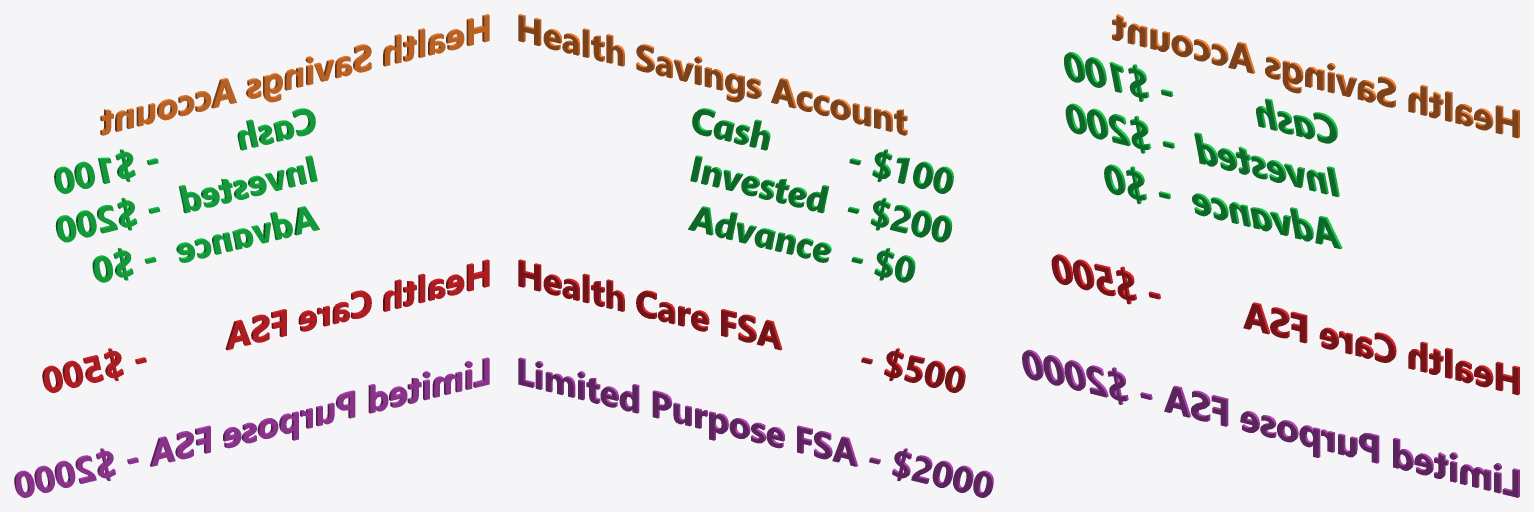
File: five.fbx
The picture shows the model from 3 angles, left to right: view 1: azimuth 30°, elevation 25°; view 2: azimuth 150°, elevation 25°; view 3: azimuth 330°, elevation 25°; orthographic projection. The views are drawn at different scales.
Parts seen in each view (by area): view 1: node_id33 (×8); view 2: node_id33 (×8); view 3: node_id33 (×8).
Part boxes in pixels (x1=…): node_id33 (×8): x1=14, y1=14, x2=489, y2=497; node_id33 (×8): x1=518, y1=14, x2=993, y2=497; node_id33 (×8): x1=1022, y1=14, x2=1519, y2=497.
Bounding box in the file's own units: 5.19 × 3.97 × 0.0334.
